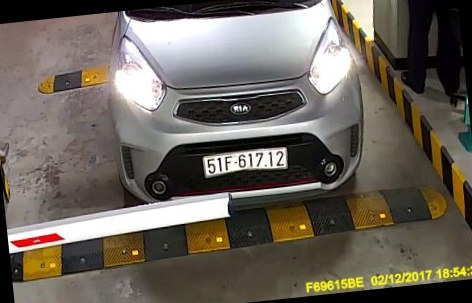plate: (196, 149, 294, 178)
